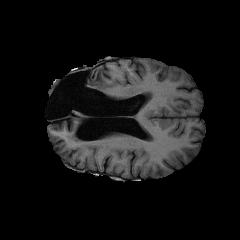glioma: (54, 68, 112, 101)
